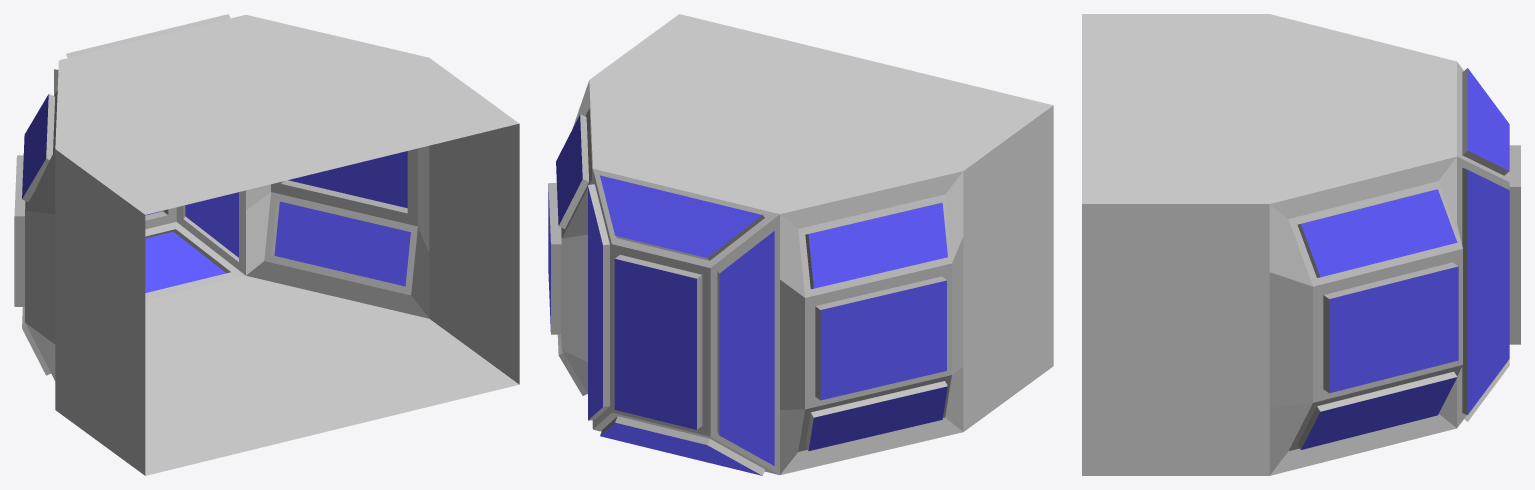
File: Spaceship.glb
The picture shows the model from 3 angles, left to right: view 1: azimuth 30°, elevation 25°; view 2: azimuth 150°, elevation 25°; view 3: azimuth 270°, elevation 25°; orthographic projection. The views are drawn at different scales.
Parts seen in each view (by area): view 1: Cube; view 2: Cube; view 3: Cube.
Part boxes in pixels (<box>): Cube: <box>14,14,519,475</box>; Cube: <box>548,14,1053,475</box>; Cube: <box>1082,14,1520,475</box>.
Size of the model in its own units: 12.78 by 8 by 11.7.
